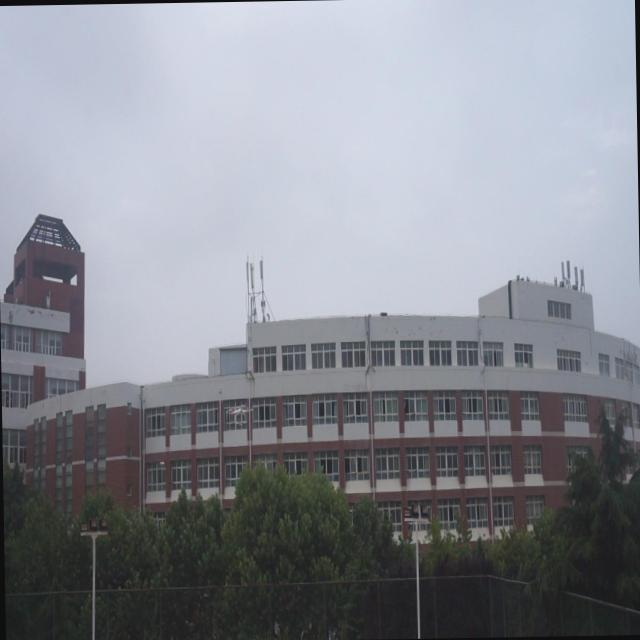drone: (227, 402, 252, 428)
